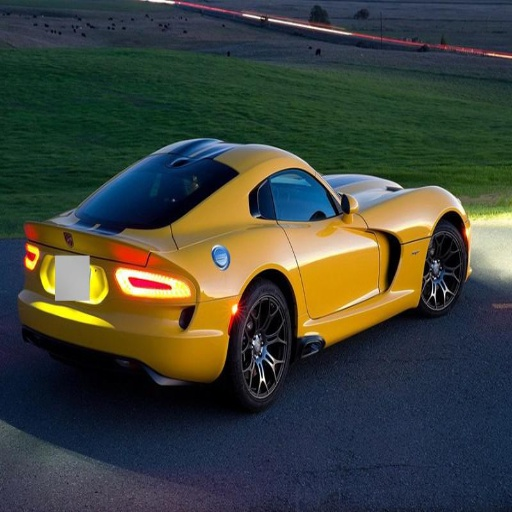back_bumper: (124, 302, 236, 382)
back_right_door: (268, 168, 317, 260)
trunk: (46, 228, 174, 341)
